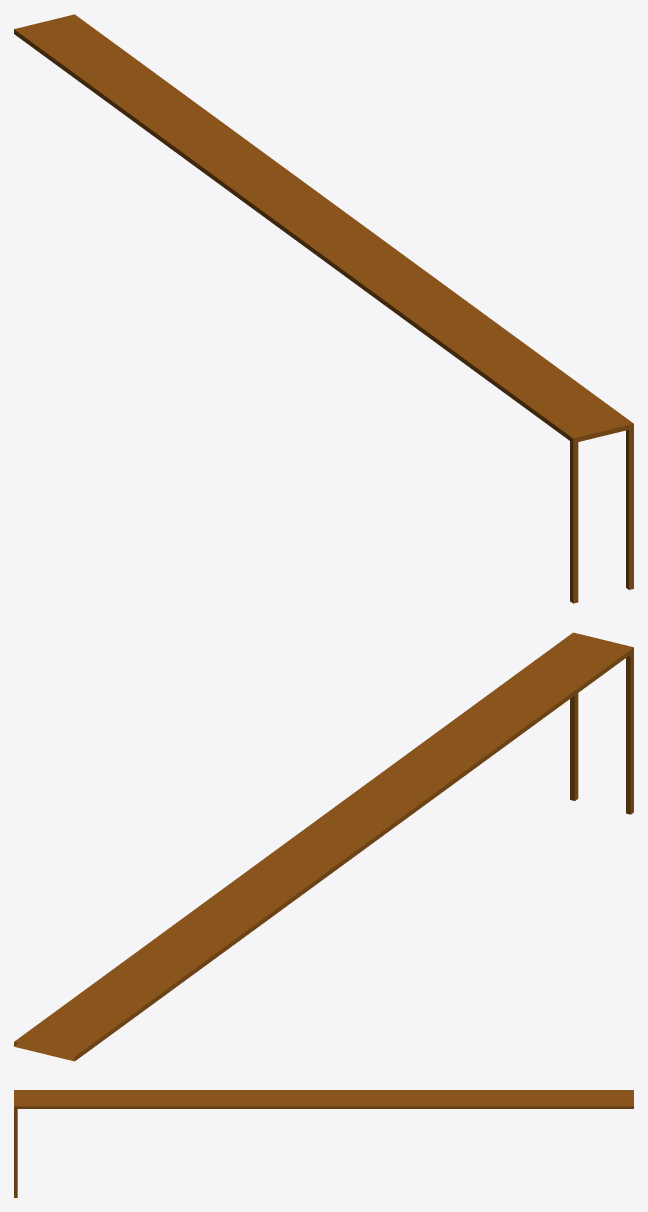
Rendered from Table.fbx.
3 renders of one model, top to bottom at view 1: azimuth 30°, elevation 25°; view 2: azimuth 150°, elevation 25°; view 3: azimuth 270°, elevation 25°, orthographic. The views are drawn at different scales.
Visible parts, largest first — view 1: Table; view 2: Table; view 3: Table.
Part boxes in pixels (box(x1,y1,x2,y2)): Table: box(14, 14, 633, 603); Table: box(14, 632, 633, 1061); Table: box(14, 1090, 633, 1197).
Bounding box in the file's own units: 1.58 × 4.11 × 25.23.
